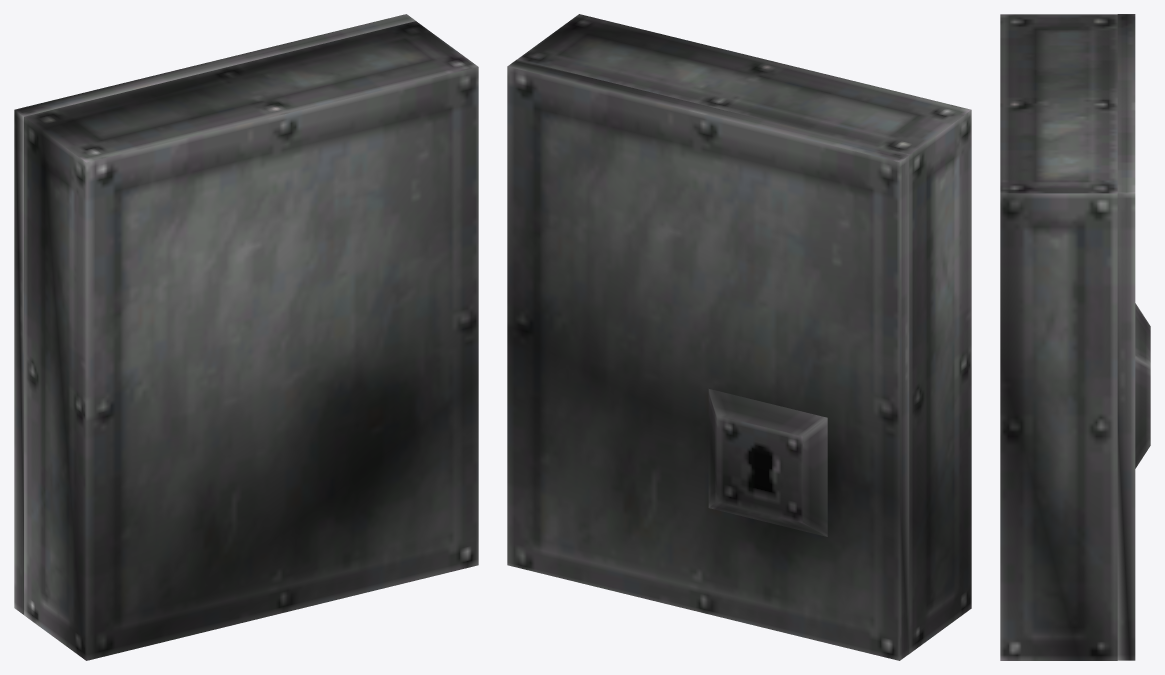
The model's file is INST_SWORDLIGHT_LOCKBOX_ANI1.fbx.
3 views of the same model, side by side, from view 1: azimuth 30°, elevation 25°; view 2: azimuth 150°, elevation 25°; view 3: azimuth 270°, elevation 25° (orthographic). The views are drawn at different scales.
Visible parts, largest first — view 1: INST_SWORDLIGHT_LOCKBOX_ANI1; view 2: INST_SWORDLIGHT_LOCKBOX_ANI1; view 3: INST_SWORDLIGHT_LOCKBOX_ANI1.
Part boxes in pixels (x1,y1,x2,y2): INST_SWORDLIGHT_LOCKBOX_ANI1: (14, 14, 478, 660); INST_SWORDLIGHT_LOCKBOX_ANI1: (507, 14, 971, 660); INST_SWORDLIGHT_LOCKBOX_ANI1: (1000, 14, 1150, 660).
Size of the model in its own units: 7001 by 8503 by 2476.
Materials: 3 (3 with a texture image).
